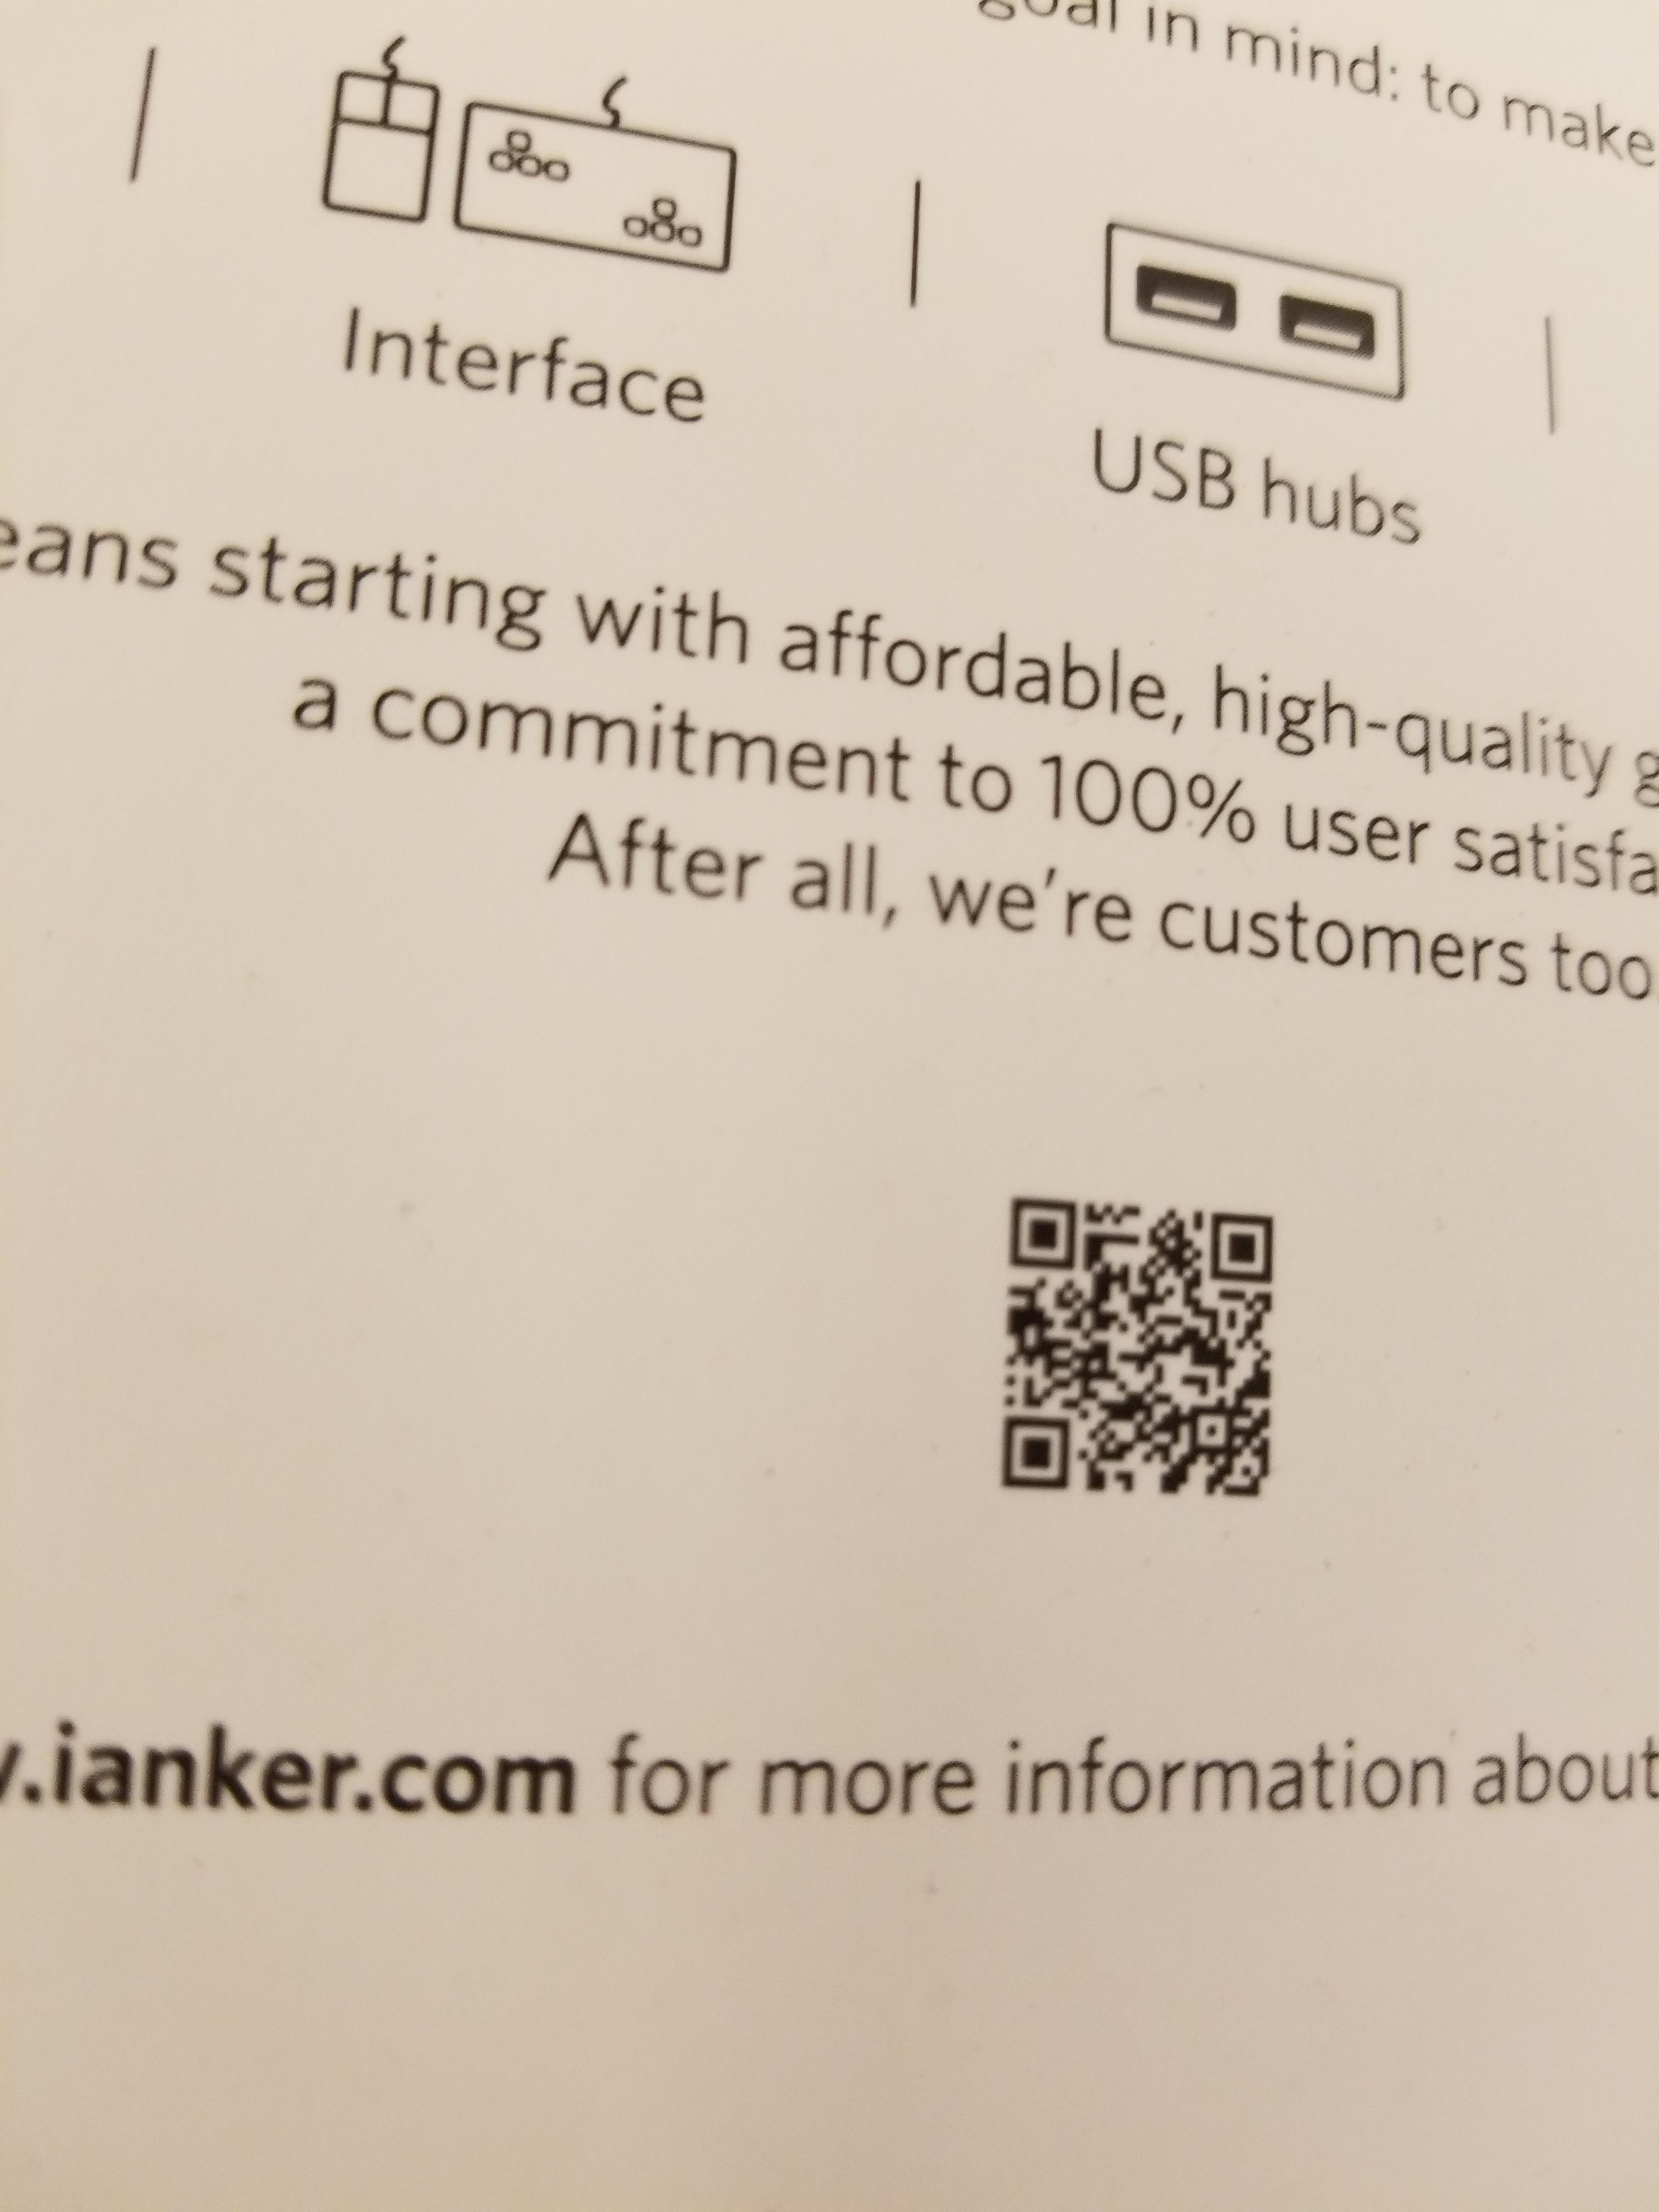QR_CODE: (953, 1151, 1312, 1540)
